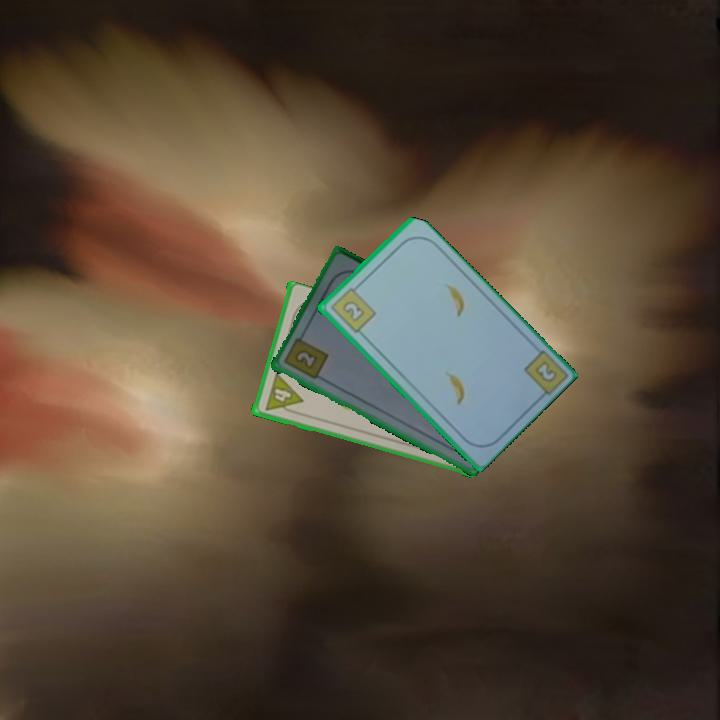2b: (327, 281, 378, 336), (280, 330, 331, 382), (531, 357, 558, 385)
4p: (261, 370, 305, 418)
